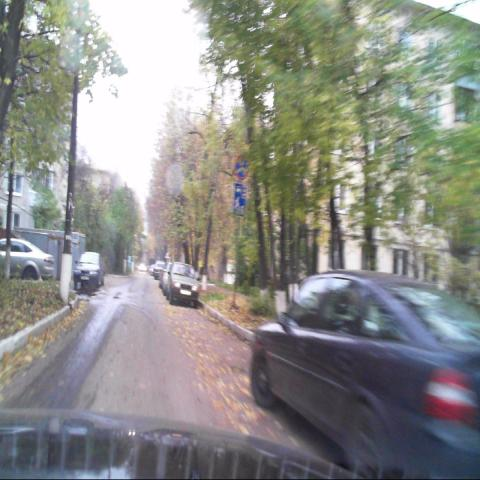5_21: (234, 183, 248, 216)
